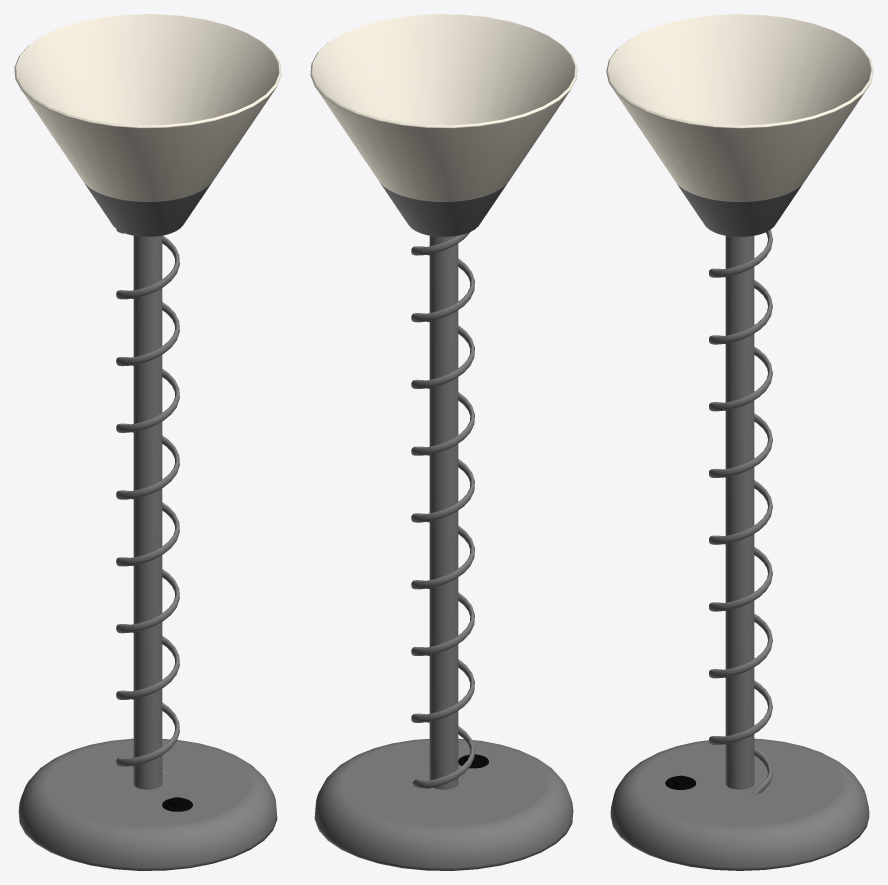
File: vlamp.glb
3 renders of one model, left to right at view 1: azimuth 30°, elevation 25°; view 2: azimuth 150°, elevation 25°; view 3: azimuth 270°, elevation 25°, orthographic.
Visible parts, largest first — view 1: Cerchio.001, Cerchio, Cilindro, Spiral.002, Cerchio.002; view 2: Cerchio.001, Cerchio, Cilindro, Spiral.002, Cerchio.002; view 3: Cerchio.001, Cerchio, Cilindro, Spiral.002, Cerchio.002.
Boxes of the visible parts, box(x1,y1,x2,y2) form: Cerchio.001: box(14, 14, 281, 201); Cerchio: box(18, 738, 277, 870); Cilindro: box(133, 236, 162, 789); Spiral.002: box(116, 229, 179, 774); Cerchio.002: box(85, 181, 212, 236); Cerchio.001: box(310, 14, 577, 201); Cerchio: box(314, 738, 573, 870); Cilindro: box(429, 236, 458, 789); Spiral.002: box(411, 232, 474, 788); Cerchio.002: box(379, 181, 506, 236); Cerchio.001: box(606, 14, 873, 202); Cerchio: box(610, 738, 869, 870); Cilindro: box(725, 236, 754, 789); Spiral.002: box(709, 230, 772, 795); Cerchio.002: box(677, 184, 802, 236).
Bounding box in the file's own units: 5.04 × 15.51 × 5.04.
